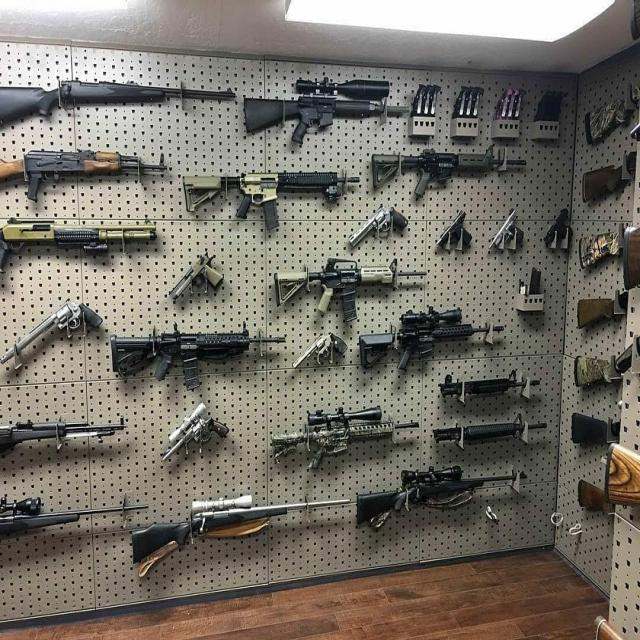HandGun: (0, 301, 103, 365), (160, 403, 229, 461), (169, 256, 224, 304), (349, 204, 408, 248), (292, 333, 348, 368), (437, 211, 472, 248), (489, 210, 523, 248), (543, 209, 568, 248)
Rifle: (132, 495, 348, 562), (0, 81, 232, 128), (245, 78, 407, 145), (110, 330, 280, 390), (183, 172, 360, 229), (275, 258, 427, 322), (359, 306, 505, 371), (357, 466, 517, 523), (272, 406, 415, 469), (0, 150, 167, 202), (372, 146, 527, 196)
ShotGun: (0, 218, 157, 272)
